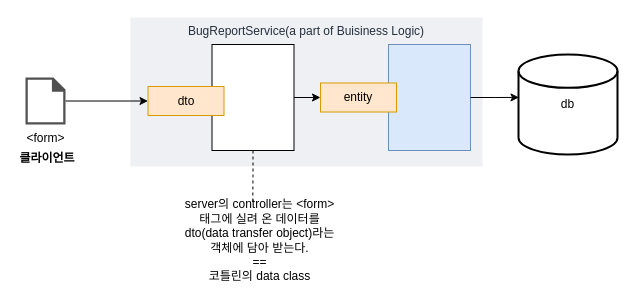
Some shapes in this 635 by 300 pixel diagram are drawn without their labels. Each missing label, with the centre of its shape:
repository: pixel 429 97
server의 controller: pixel 252 97
